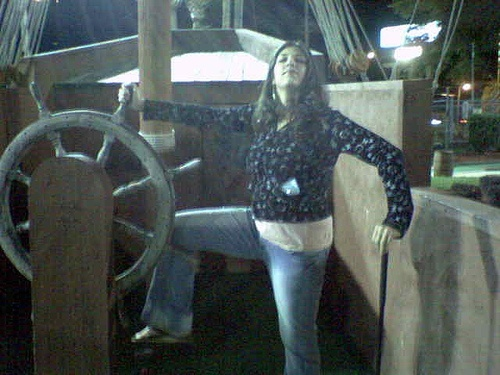head: (273, 43, 311, 90)
person: (120, 29, 413, 375)
